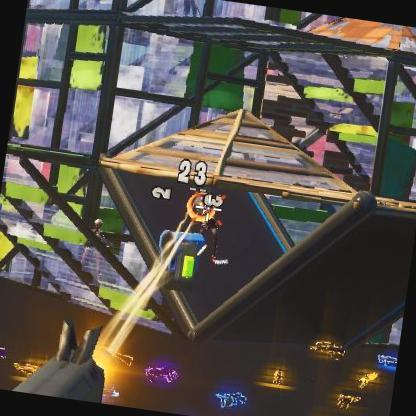person: (194, 188, 225, 250), (91, 216, 106, 235)
